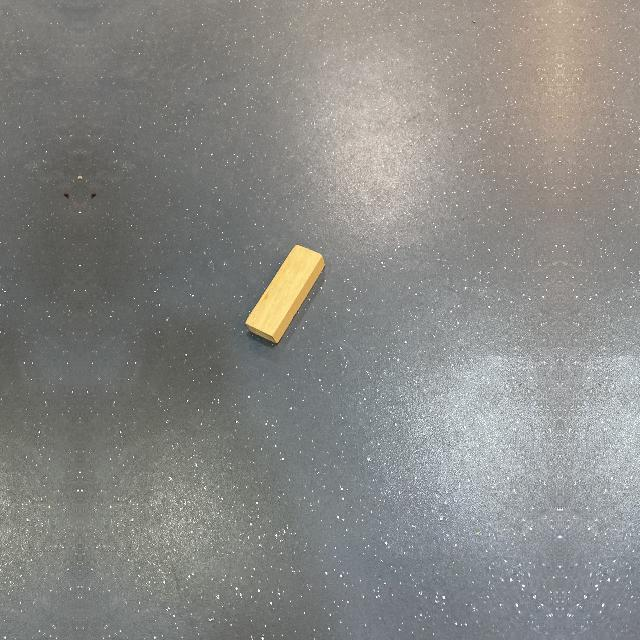jenga: (245, 245, 325, 344)
